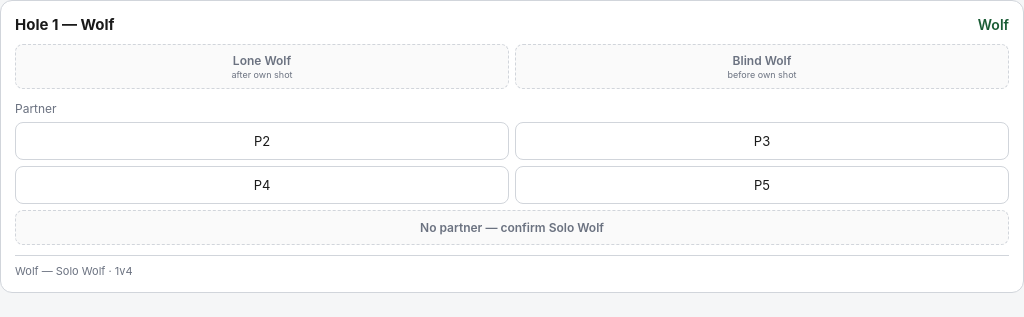
Test: WolfHoleCard — partner selection (default "Wolf" tier) › tapping the same partner again deselects — back to default Wolf summary
Click the button "P2": (262, 141) [15,122,509,160]
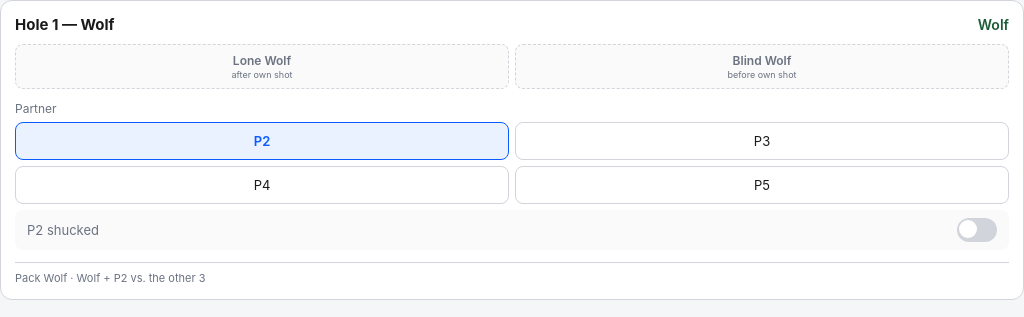
Click the button "P2": (262, 141) [15,122,509,160]
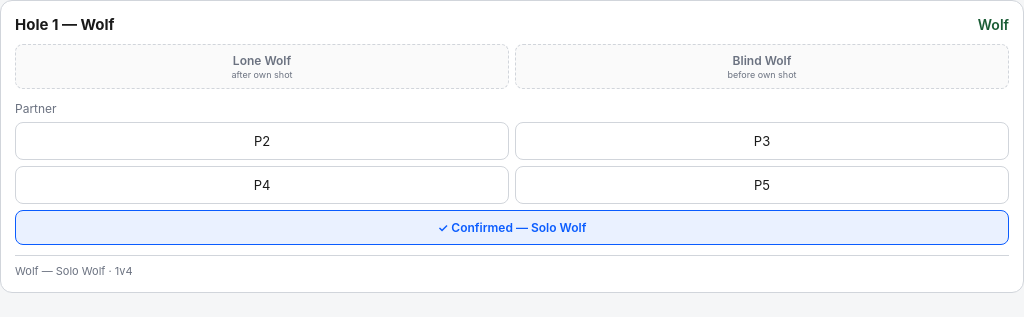
Check: the text "Wolf — Solo Wolf · 1v4" is shown, box [15,255,1009,278]
